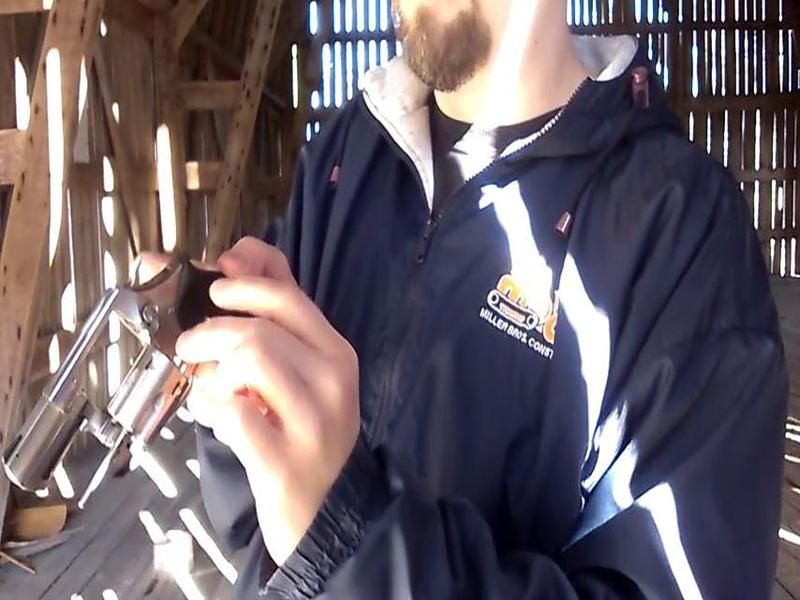Revolver: (7, 244, 257, 527)
